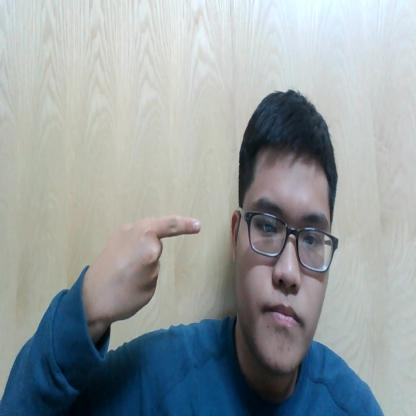left: (95, 209, 207, 327)
